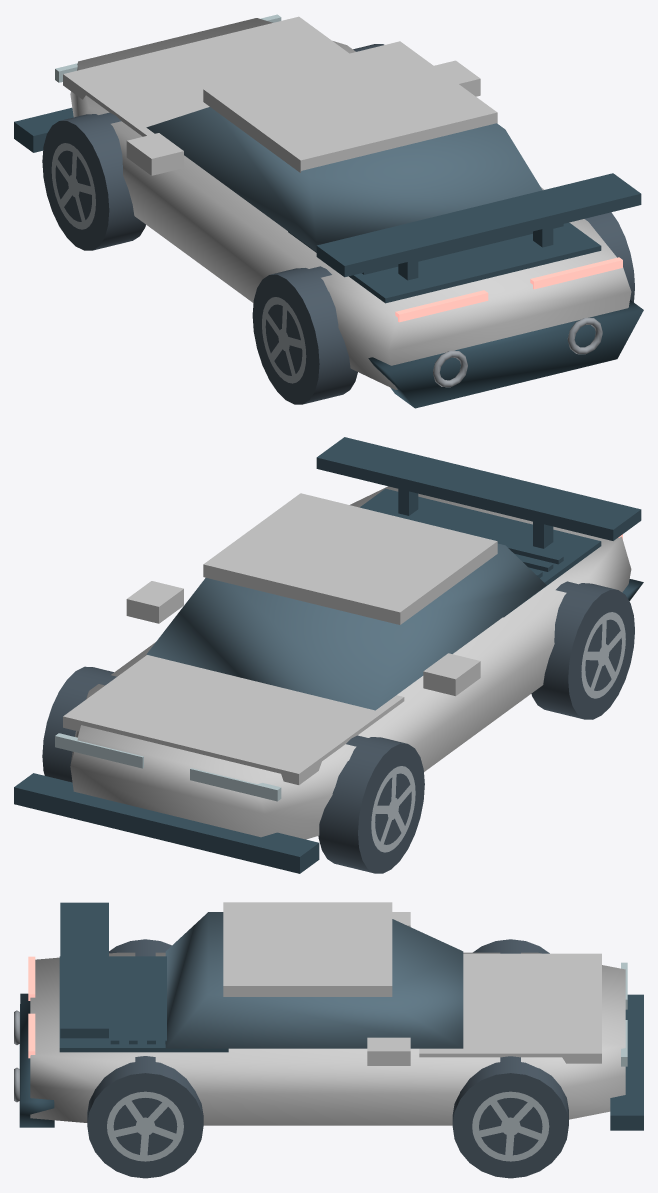
3 views of the same model, one above another, from view 1: azimuth 30°, elevation 25°; view 2: azimuth 150°, elevation 25°; view 3: azimuth 270°, elevation 25° (orthographic). The views are drawn at different scales.
Parts seen in each view (by area): view 1: BodyShell, wheel_rl, wheel_fl, BrakeLights5, wheel_rr; view 2: BodyShell, wheel_fl, wheel_rl, wheel_fr; view 3: BodyShell, wheel_fr, wheel_rr, wheel_fl, wheel_rl, BrakeLights5.
Part boxes in pixels (x1,y1,x2,y2): BodyShell: (14, 14, 643, 408); wheel_rl: (252, 266, 357, 404); wheel_fl: (42, 112, 145, 250); BrakeLights5: (395, 257, 622, 322); wheel_rr: (584, 212, 634, 302); BodyShell: (14, 437, 643, 873); wheel_fl: (318, 735, 424, 873); wheel_rl: (531, 581, 634, 719); wheel_fr: (42, 666, 116, 782); BodyShell: (14, 902, 643, 1130); wheel_fr: (452, 1056, 568, 1178); wheel_rr: (87, 1056, 203, 1178); wheel_fl: (473, 939, 549, 953); wheel_rl: (109, 939, 171, 956); BrakeLights5: (28, 956, 35, 1058).
Size of the model in its own units: 2.44 by 1.37 by 4.66.
